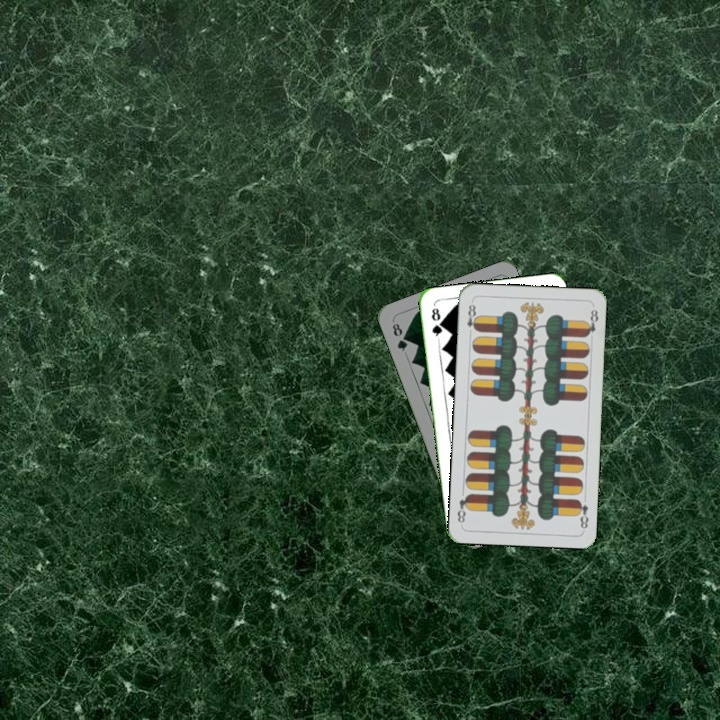E8: (463, 298, 480, 338), (573, 495, 591, 531)
G8: (388, 319, 410, 354), (427, 303, 445, 343)
